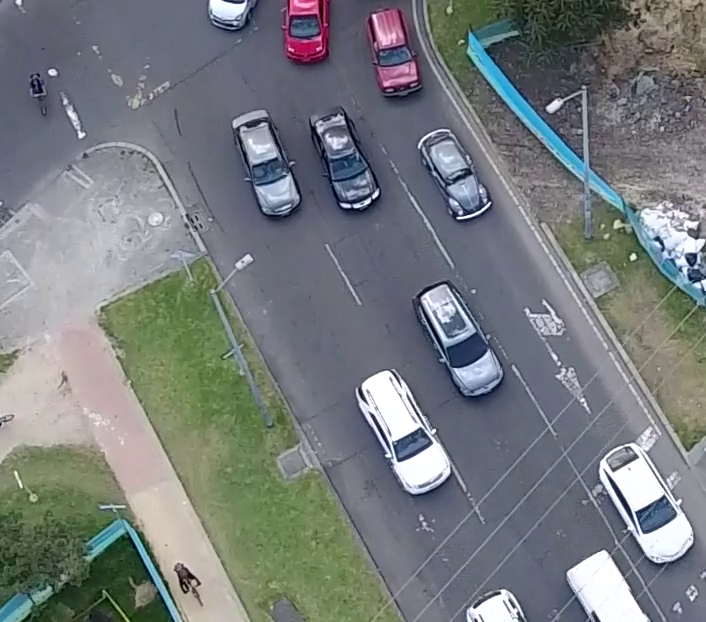car: (351, 366, 456, 501), (597, 436, 697, 573), (410, 275, 507, 405), (227, 107, 304, 223), (306, 105, 384, 218), (416, 121, 493, 226), (364, 4, 424, 100)
